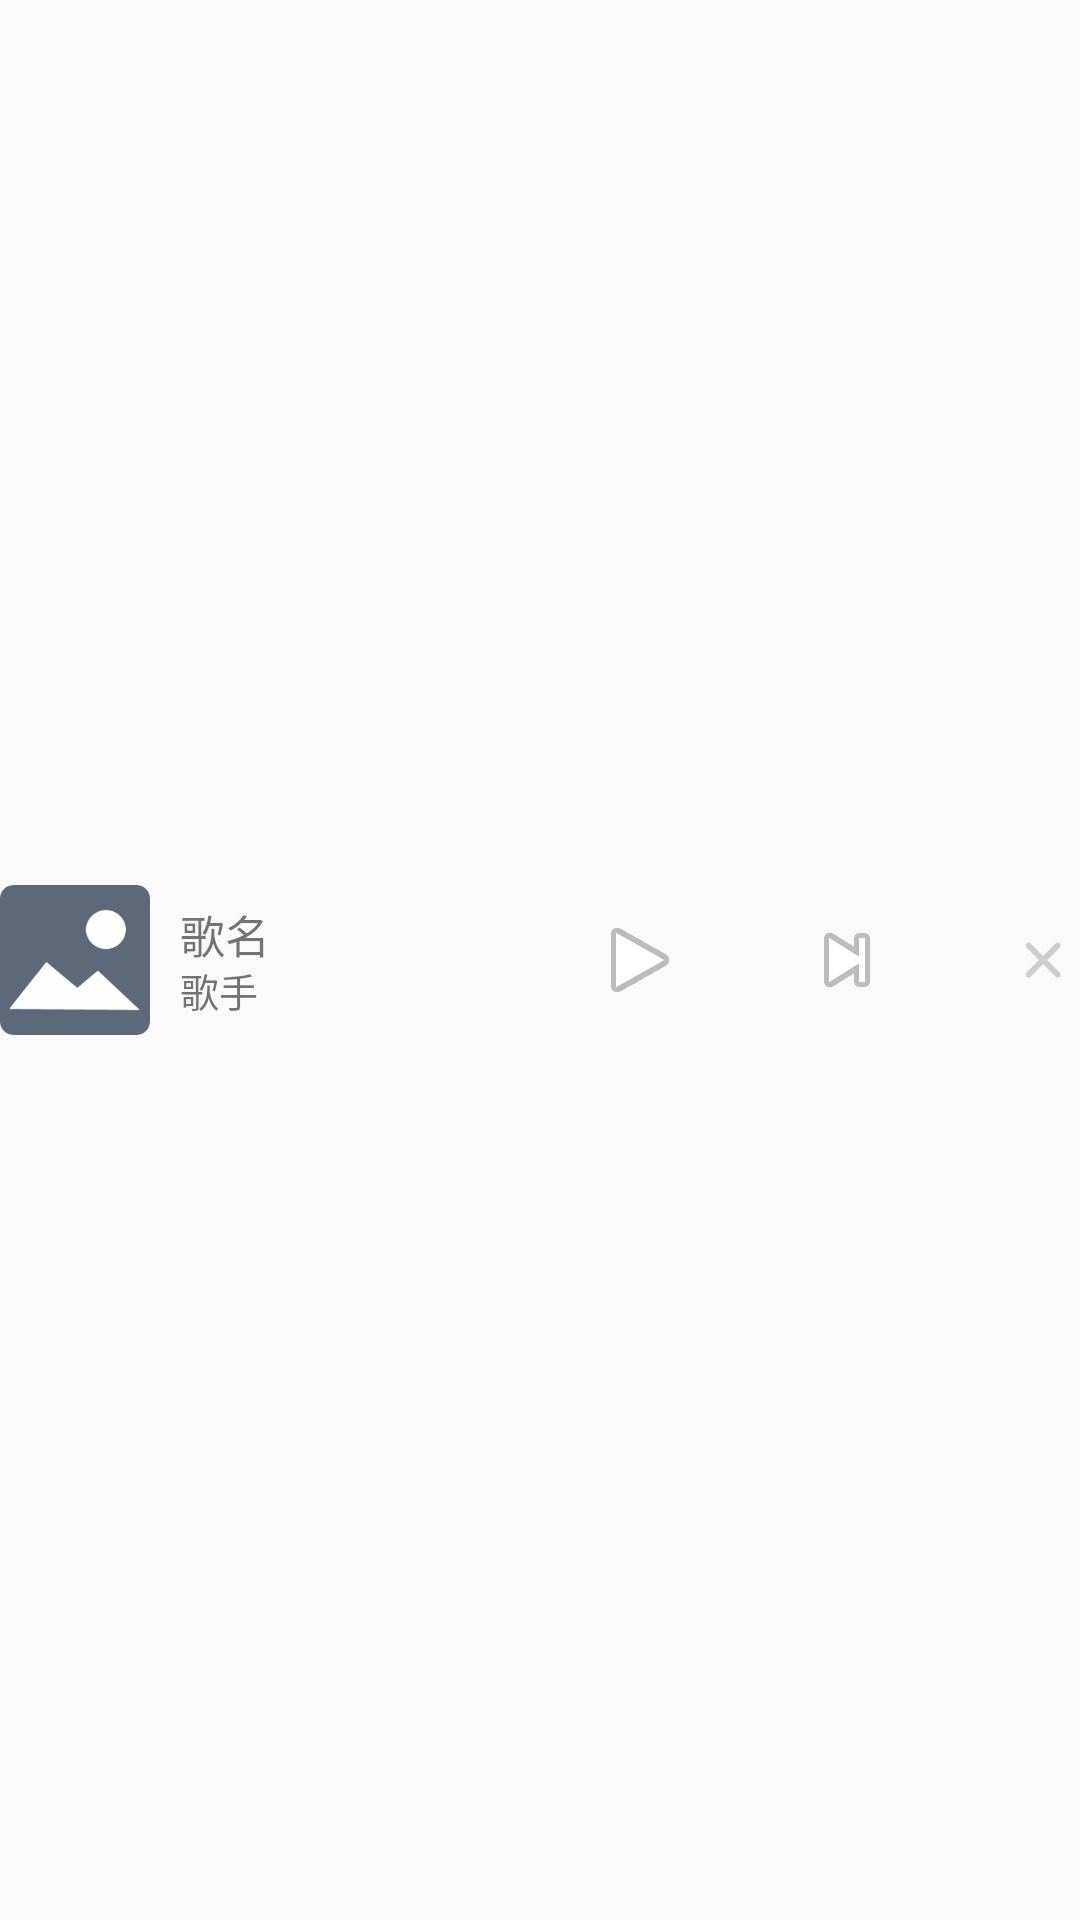

Screen size 1080px x 1920px. Icon name, then its center in pixels as (x=x, y=y):
delete: (x=1043, y=960)
next: (x=847, y=960)
play: (x=640, y=960)
